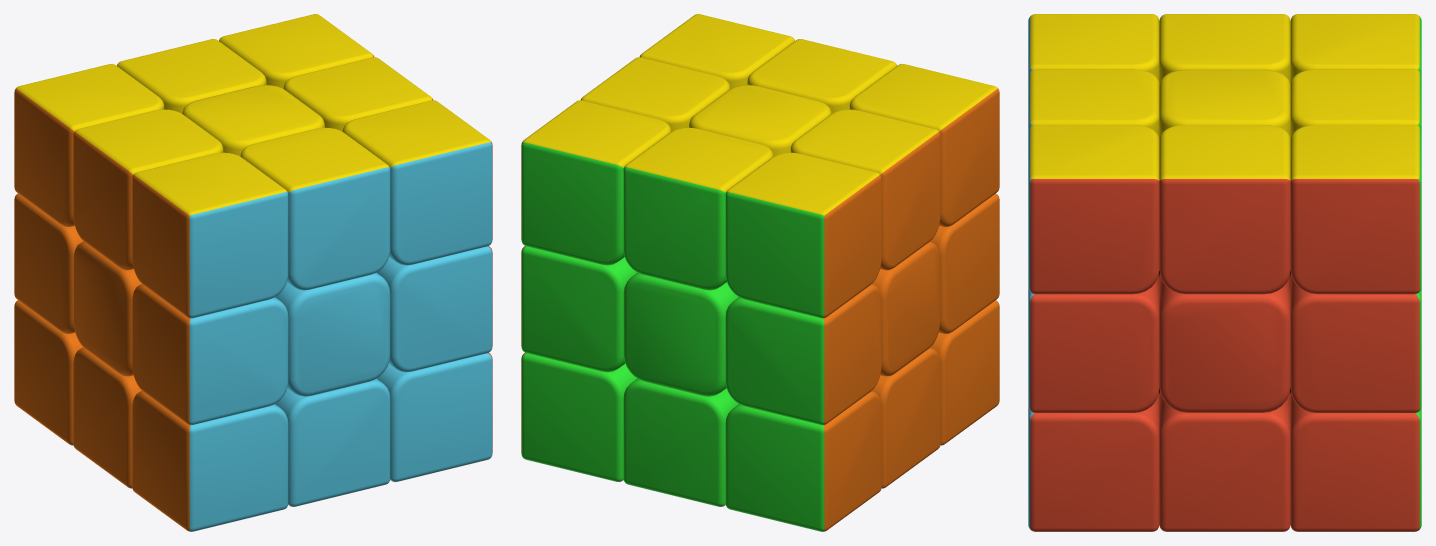
The picture shows the model from 3 angles, left to right: view 1: azimuth 30°, elevation 25°; view 2: azimuth 150°, elevation 25°; view 3: azimuth 270°, elevation 25°; orthographic projection. The views are drawn at different scales.
Visible parts, largest first — view 1: cp_boy, cp_bow, mp_bo, cp_bry, mp_by, cp_goy, mp_oy, cp_brw, mp_bw, mp_br, centre_b, cp_gow (+7 smaller); view 2: cp_goy, cp_gow, mp_go, cp_gry, mp_gy, cp_boy, mp_oy, cp_grw, mp_gw, mp_gr, centre_g, cp_bow (+7 smaller); view 3: cp_bry, cp_gry, mp_ry, mp_rw, cp_brw, cp_grw, mp_br, mp_gr, centre_r, mp_oy, cp_goy, cp_boy (+3 smaller).
Boxes of the visible parts, bbox=[...] form: cp_boy: bbox=[132, 152, 288, 318]; cp_bow: bbox=[132, 391, 288, 531]; mp_bo: bbox=[132, 284, 288, 425]; cp_bry: bbox=[342, 100, 492, 265]; mp_by: bbox=[240, 127, 390, 290]; cp_goy: bbox=[14, 64, 164, 226]; mp_oy: bbox=[73, 109, 223, 270]; cp_brw: bbox=[377, 352, 492, 482]; mp_bw: bbox=[275, 378, 390, 506]; mp_br: bbox=[376, 246, 492, 372]; centre_b: bbox=[275, 272, 390, 396]; cp_gow: bbox=[14, 300, 83, 445]; cp_goy: bbox=[725, 152, 881, 318]; cp_gow: bbox=[725, 391, 881, 531]; mp_go: bbox=[725, 284, 881, 425]; cp_gry: bbox=[521, 100, 671, 265]; mp_gy: bbox=[623, 127, 773, 290]; cp_boy: bbox=[849, 64, 999, 226]; mp_oy: bbox=[790, 109, 940, 270]; cp_grw: bbox=[521, 352, 636, 481]; mp_gw: bbox=[623, 378, 738, 506]; mp_gr: bbox=[521, 246, 637, 372]; centre_g: bbox=[623, 272, 738, 396]; cp_bow: bbox=[930, 300, 999, 445]; cp_bry: bbox=[1028, 125, 1159, 294]; cp_gry: bbox=[1290, 125, 1421, 294]; mp_ry: bbox=[1159, 125, 1290, 294]; mp_rw: bbox=[1159, 391, 1290, 531]; cp_brw: bbox=[1028, 393, 1159, 531]; cp_grw: bbox=[1290, 393, 1421, 531]; mp_br: bbox=[1028, 274, 1159, 412]; mp_gr: bbox=[1290, 274, 1421, 412]; centre_r: bbox=[1159, 274, 1290, 412]; mp_oy: bbox=[1159, 14, 1290, 85]; cp_goy: bbox=[1290, 14, 1421, 82]; cp_boy: bbox=[1028, 14, 1159, 82].
Bounding box in the file's own units: 0.5962 × 0.5962 × 0.5962.
